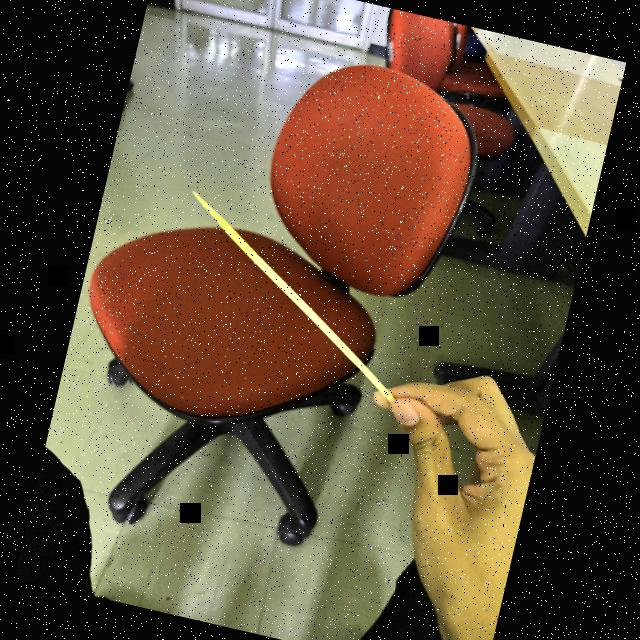stick: (148, 184, 432, 406)
